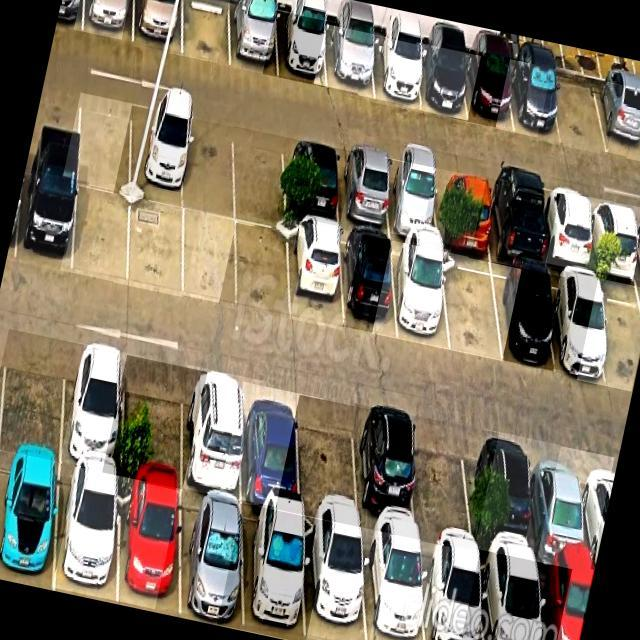empty: (0, 330, 67, 459), (122, 355, 184, 489), (299, 395, 359, 526), (416, 417, 474, 550), (442, 253, 502, 361), (72, 186, 131, 283), (128, 198, 183, 297), (77, 93, 131, 193), (234, 128, 285, 231), (183, 117, 235, 218), (183, 210, 237, 306), (236, 223, 290, 318), (598, 278, 640, 391), (551, 71, 606, 153), (182, 0, 231, 66)
occupied: (55, 464, 118, 601), (180, 491, 243, 628), (354, 406, 419, 538), (61, 341, 124, 474), (243, 505, 305, 640), (119, 478, 180, 614), (0, 453, 60, 589), (304, 516, 366, 640), (183, 368, 241, 500), (532, 440, 590, 571), (242, 381, 299, 511), (483, 429, 536, 561), (361, 531, 425, 640), (547, 269, 608, 380), (492, 263, 554, 367), (15, 169, 77, 273), (421, 540, 484, 640), (392, 241, 450, 349), (342, 230, 398, 336), (129, 105, 186, 208), (289, 220, 343, 328), (479, 552, 542, 640), (487, 178, 544, 266), (284, 139, 339, 225), (436, 168, 491, 253), (337, 148, 391, 233), (385, 157, 439, 241), (537, 562, 594, 640), (542, 188, 594, 272), (589, 197, 640, 280), (510, 60, 560, 142), (465, 50, 514, 131), (416, 45, 468, 120), (276, 11, 327, 87), (370, 35, 421, 108), (230, 0, 278, 77), (594, 79, 640, 159), (326, 25, 373, 96), (133, 0, 183, 52), (83, 0, 133, 42)
